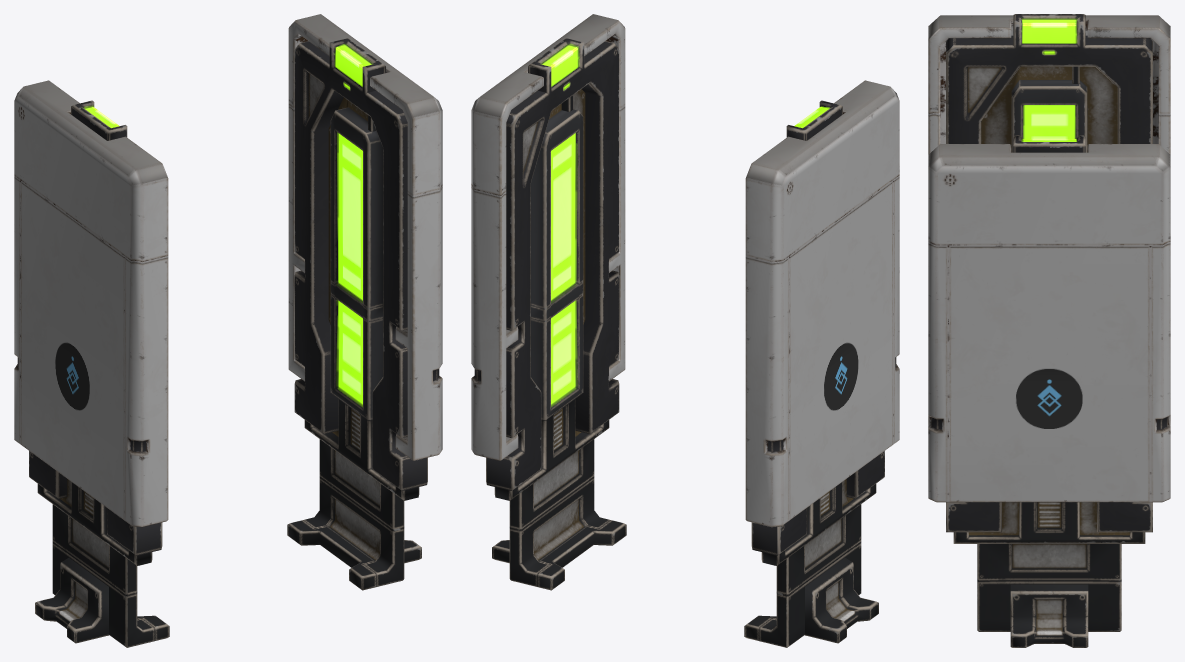
3 views of the same model, side by side, from view 1: azimuth 30°, elevation 25°; view 2: azimuth 150°, elevation 25°; view 3: azimuth 270°, elevation 25° (orthographic). The views are drawn at different scales.
Visible parts, largest first — view 1: Scanner; view 2: Scanner; view 3: Scanner.
Boxes of the visible parts, left/top/right/bottom form: Scanner: left=14, top=14, right=442, bottom=647; Scanner: left=471, top=14, right=899, bottom=647; Scanner: left=928, top=14, right=1170, bottom=647.
Size of the model in its own units: 128 by 178 by 80.
Materials: 1 (1 with a texture image).
